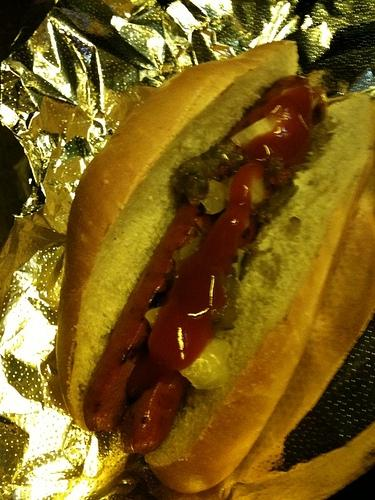onion: (180, 337, 231, 390), (231, 116, 282, 149), (199, 179, 230, 215), (145, 306, 162, 330), (251, 178, 264, 204)
